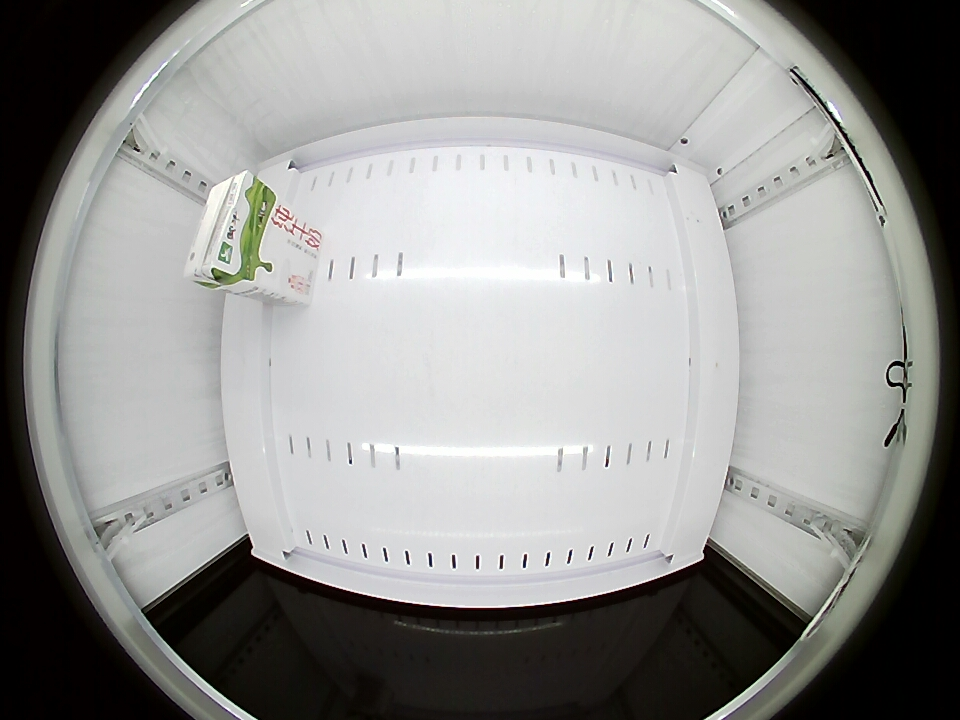mengniu: (185, 171, 274, 290)
